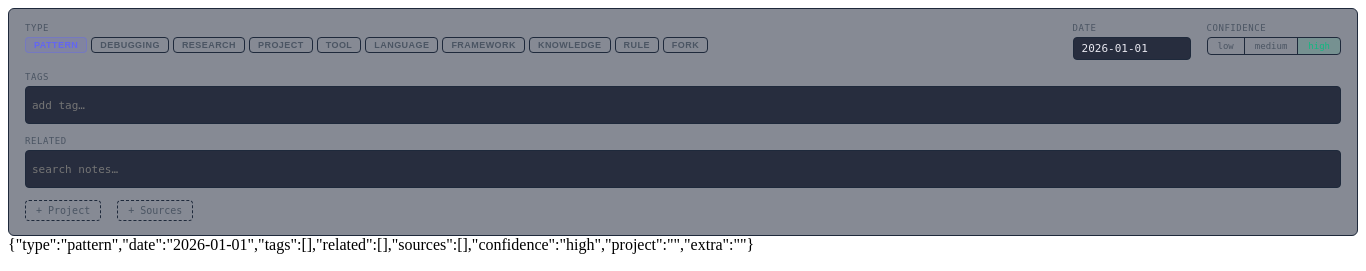
FrontmatterEditor ChipInput (tags) › Enter commits the typed tag, normalized to kebab-case
Type "My Cool Tag" into the field with placeholder "add tag…" at (683, 105), box [32,96,1334,114]
Then press Enter
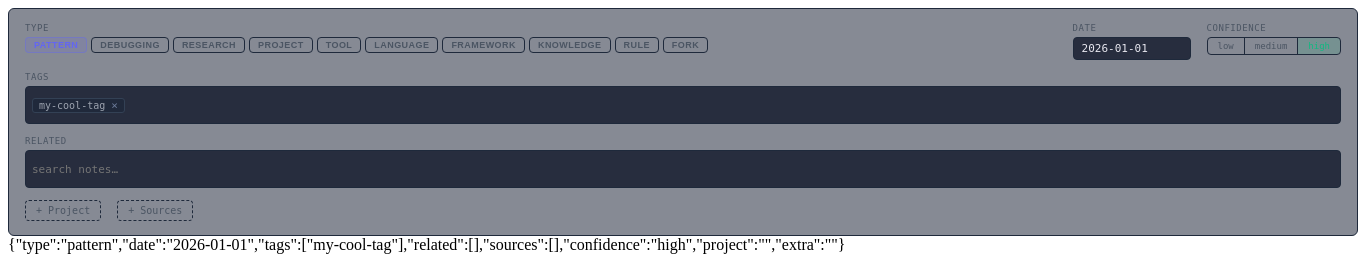
Expected: the 2nd field with placeholder "add tag…" is empty, [129,96,1334,114]
Result: the text "my-cool-tag" is shown at [39,100,105,110]
